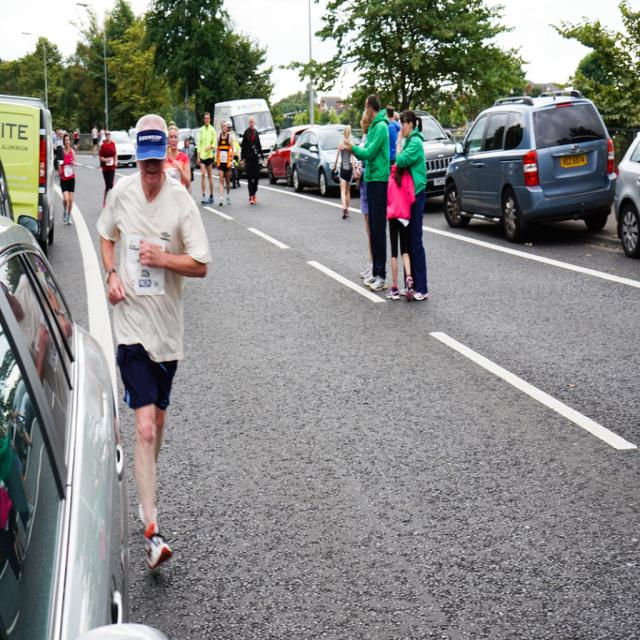car: (438, 89, 618, 232)
